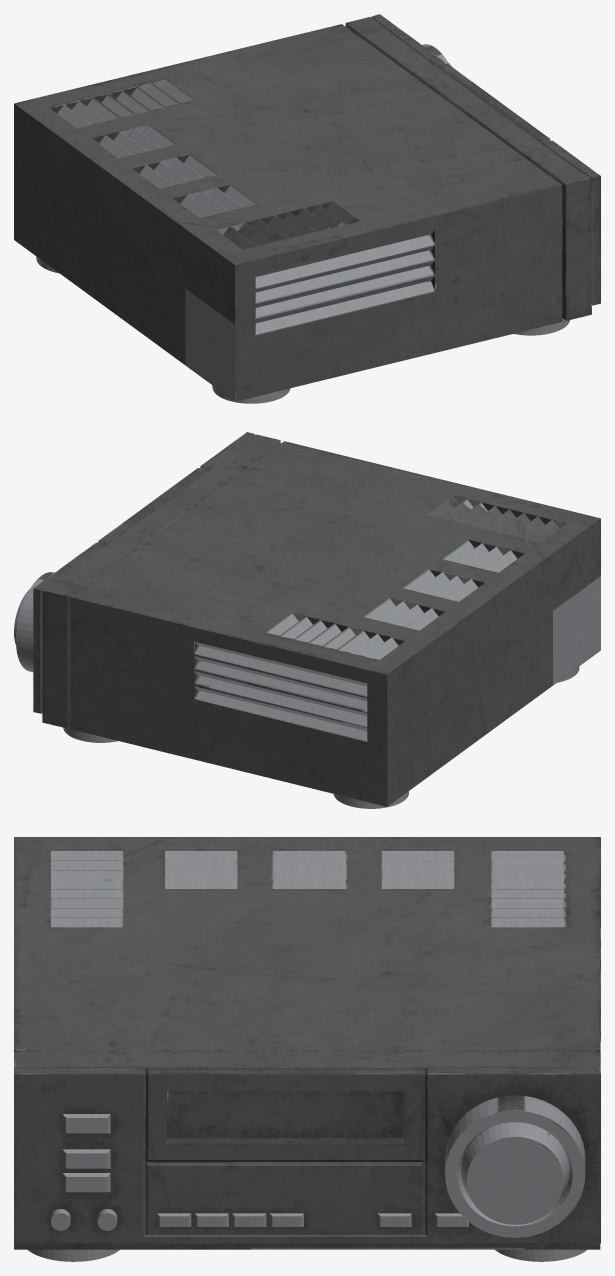
The model's file is Телик.fbx.
The picture shows the model from 3 angles, top to bottom: view 1: azimuth 30°, elevation 25°; view 2: azimuth 150°, elevation 25°; view 3: azimuth 270°, elevation 25°; orthographic projection. The views are drawn at different scales.
Visible parts, largest first — view 1: Cube; view 2: Cube; view 3: Cube.
Boxes of the visible parts, <box> form: Cube: <box>14,14,600,403</box>; Cube: <box>14,432,600,808</box>; Cube: <box>14,837,600,1261</box>.
Bounding box in the file's own units: 472 × 167 × 452.
1 material, 1 textured.
